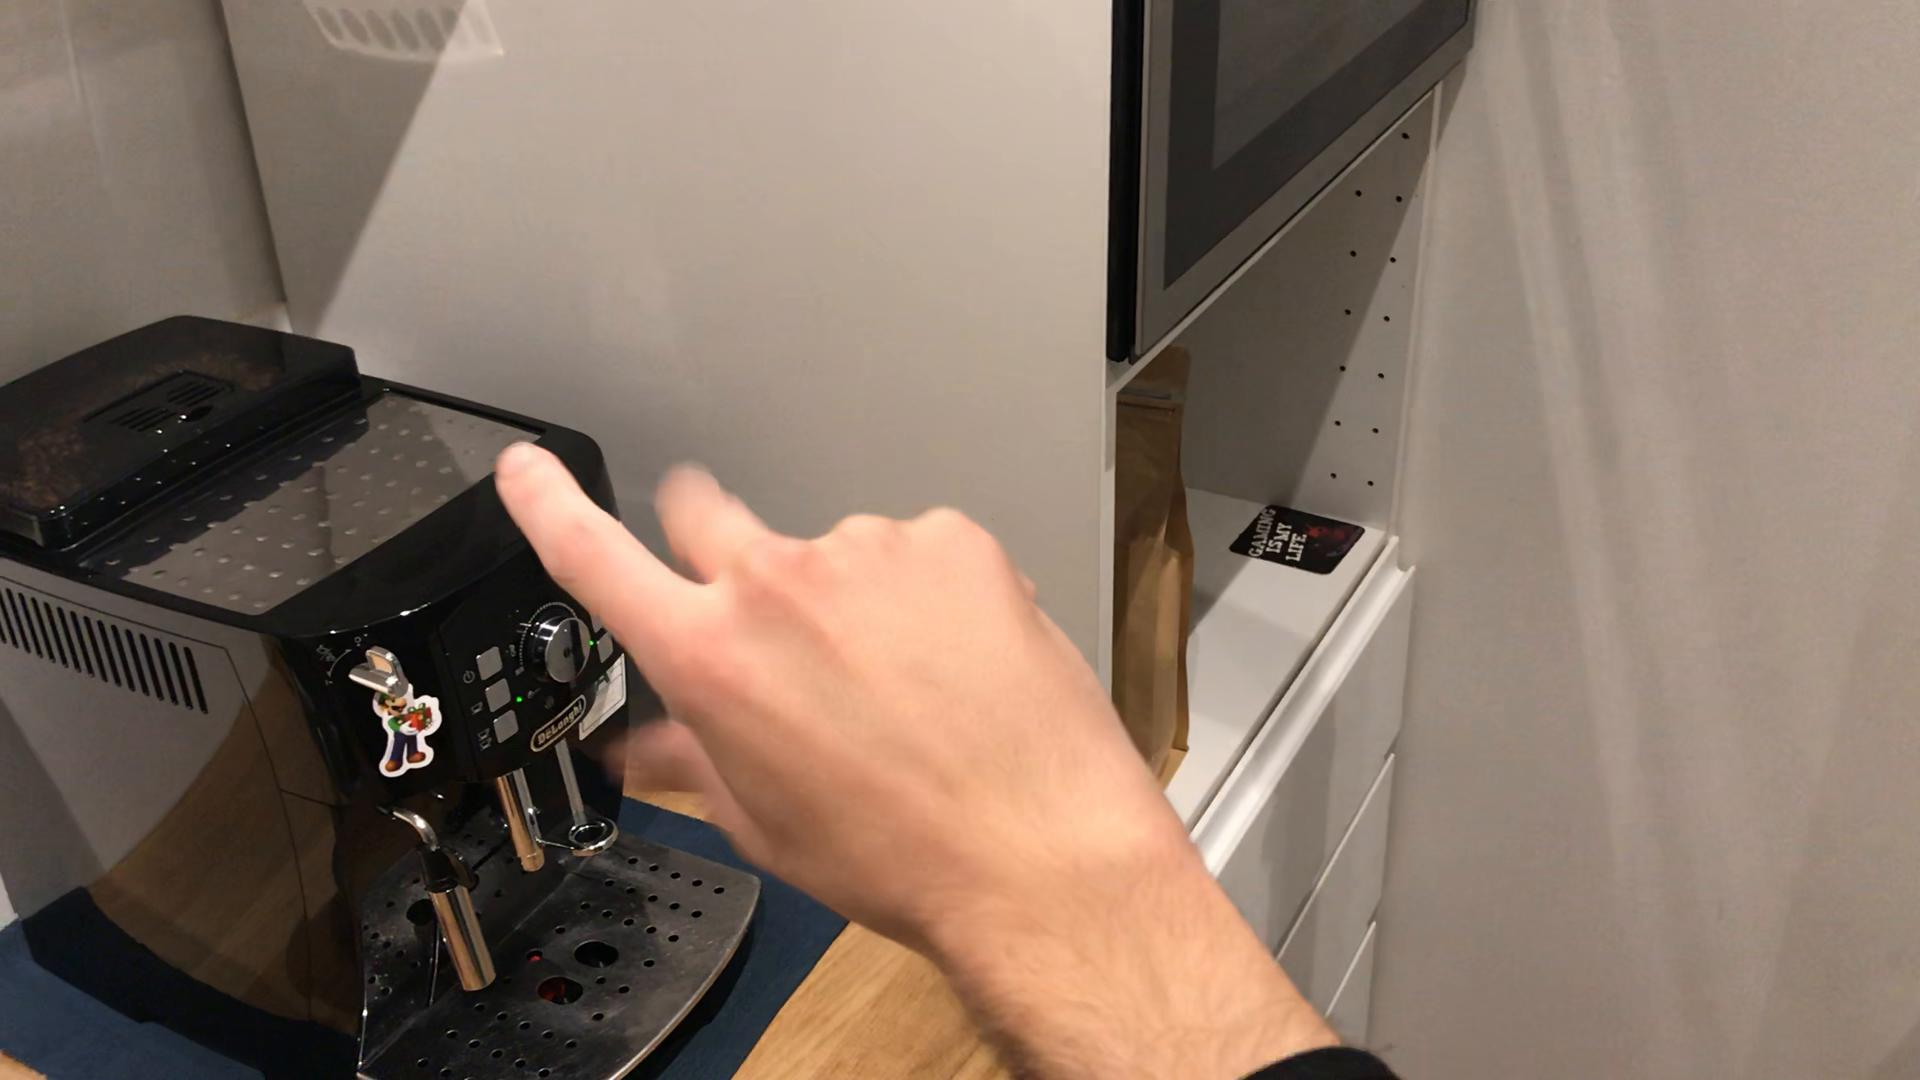hand: (485, 438, 1137, 920)
